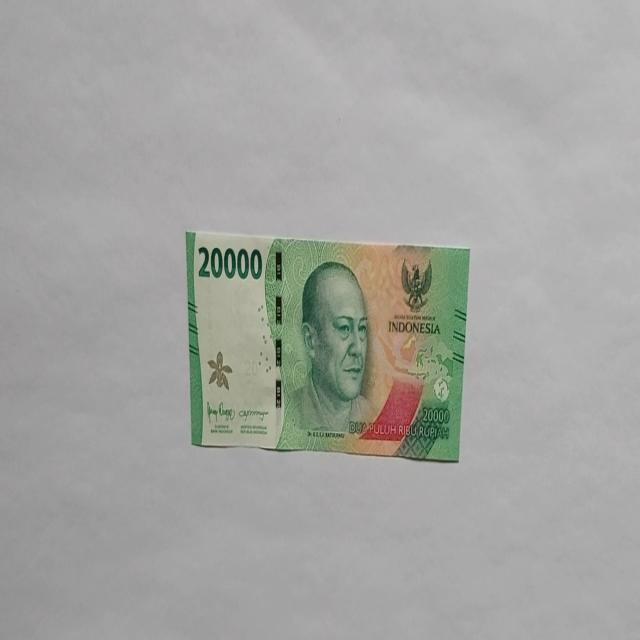dua puluh ribu rupiah: (184, 228, 470, 462), (276, 258, 378, 452)
